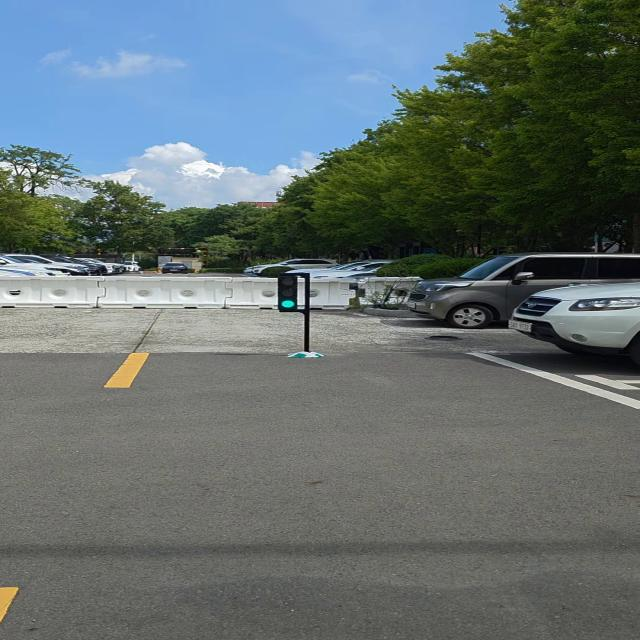green: (276, 276, 304, 312)
